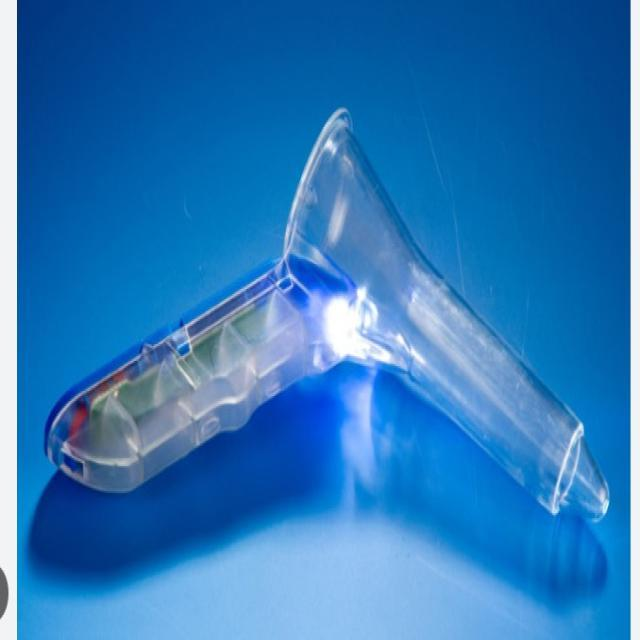Protoscope: (46, 90, 614, 574)
